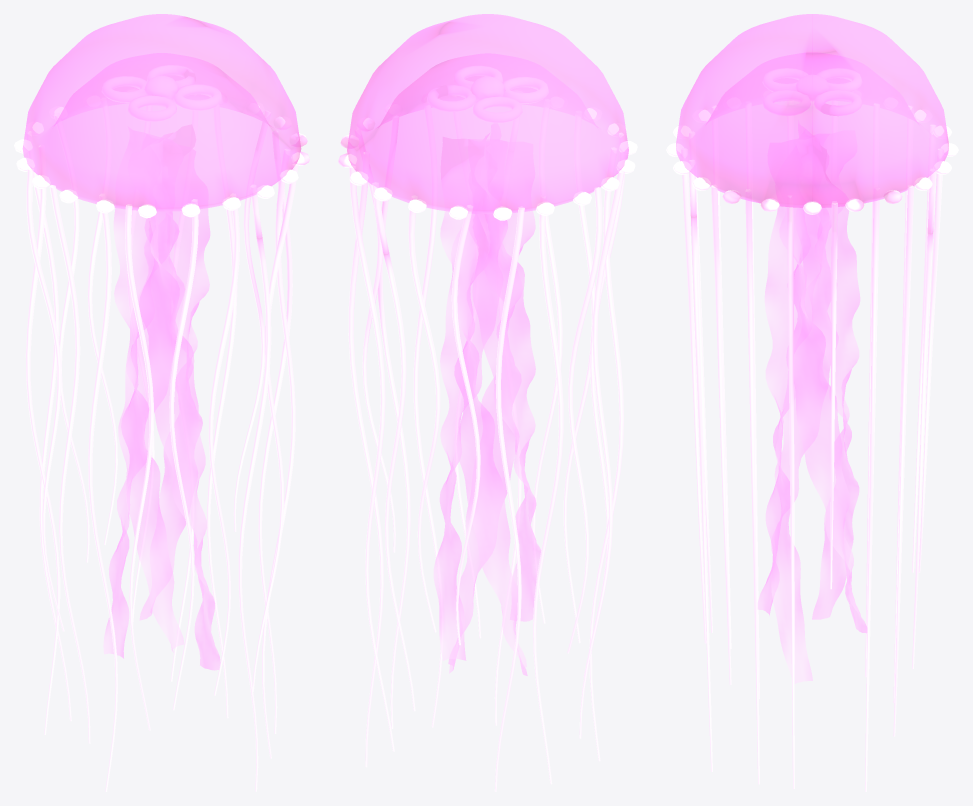
File: deep_jelly.glb
The picture shows the model from 3 angles, left to right: view 1: azimuth 30°, elevation 25°; view 2: azimuth 150°, elevation 25°; view 3: azimuth 270°, elevation 25°; orthographic projection. The views are drawn at different scales.
Parts seen in each view (by area): view 1: jelly_bell_mesh, jelly_tentacles, jelly_arms; view 2: jelly_bell_mesh, jelly_tentacles, jelly_arms; view 3: jelly_bell_mesh, jelly_arms, jelly_tentacles.
Part boxes in pixels (x1,y1,x2,y2): jelly_bell_mesh: (14,14,309,218); jelly_tentacles: (25,104,298,791); jelly_arms: (103,125,220,670); jelly_bell_mesh: (338,14,637,220); jelly_tentacles: (348,104,625,791); jelly_arms: (433,124,540,675); jelly_bell_mesh: (666,14,958,214); jelly_arms: (757,121,867,683); jelly_tentacles: (681,101,943,791).
Size of the model in its own units: 1.37 by 3.74 by 1.37.
